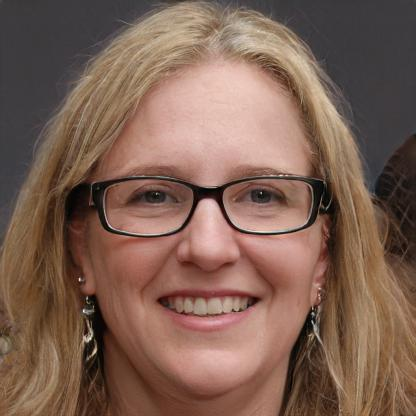glasses: (95, 169, 321, 238)
